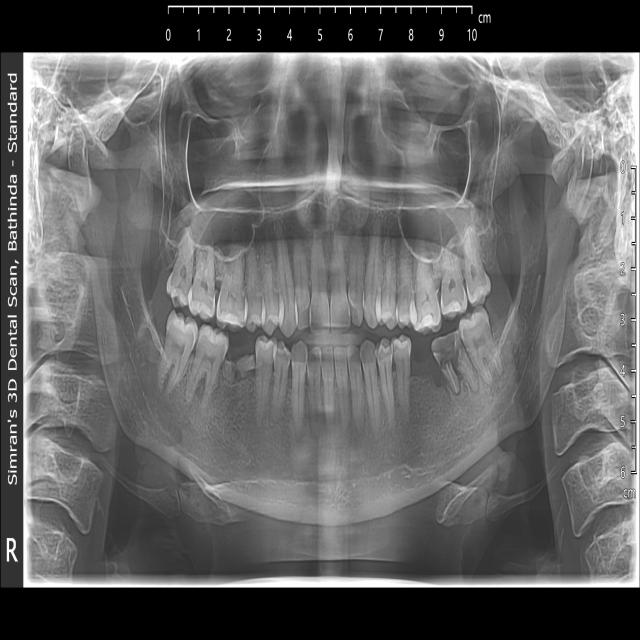Caries: (433, 329, 462, 367), (166, 266, 191, 308)
Filling: (412, 294, 441, 336), (440, 285, 465, 317)
Missing teeth: (415, 361, 443, 419)
Periapical lesion: (450, 376, 470, 403)
Root Canal Treatment: (438, 355, 463, 396)
Root Piece: (223, 353, 255, 385)
